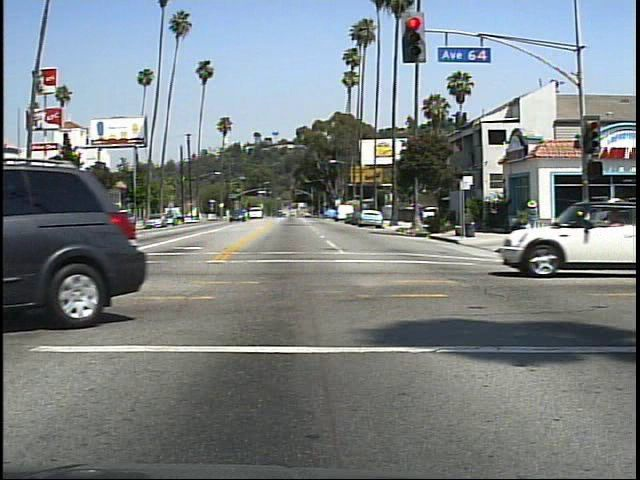person: (522, 195, 549, 238)
